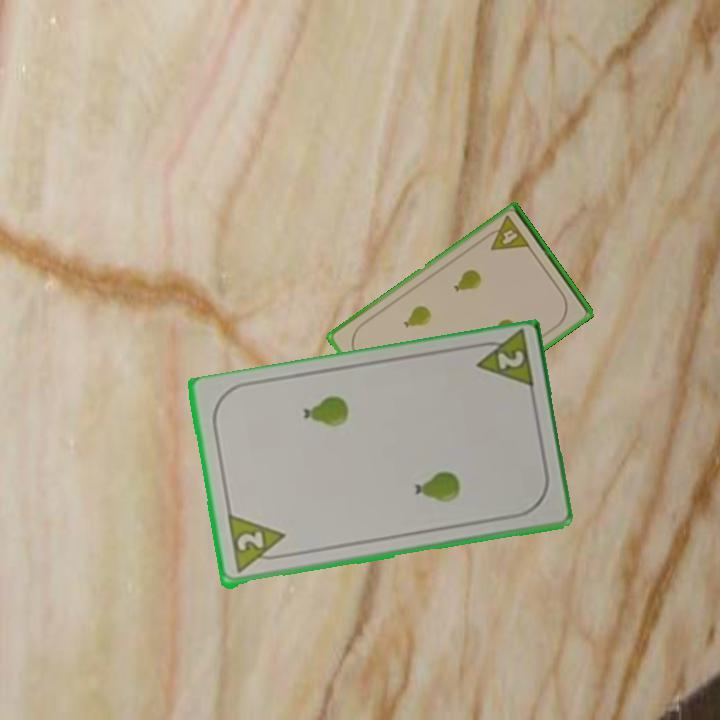2p: (468, 330, 536, 395), (224, 513, 290, 577)
4p: (481, 212, 533, 254)
